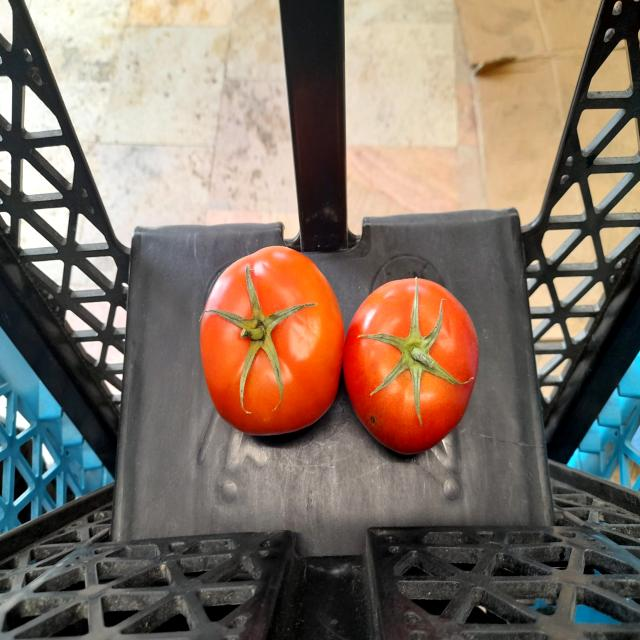tomato: (194, 231, 346, 444), (343, 265, 485, 466)
